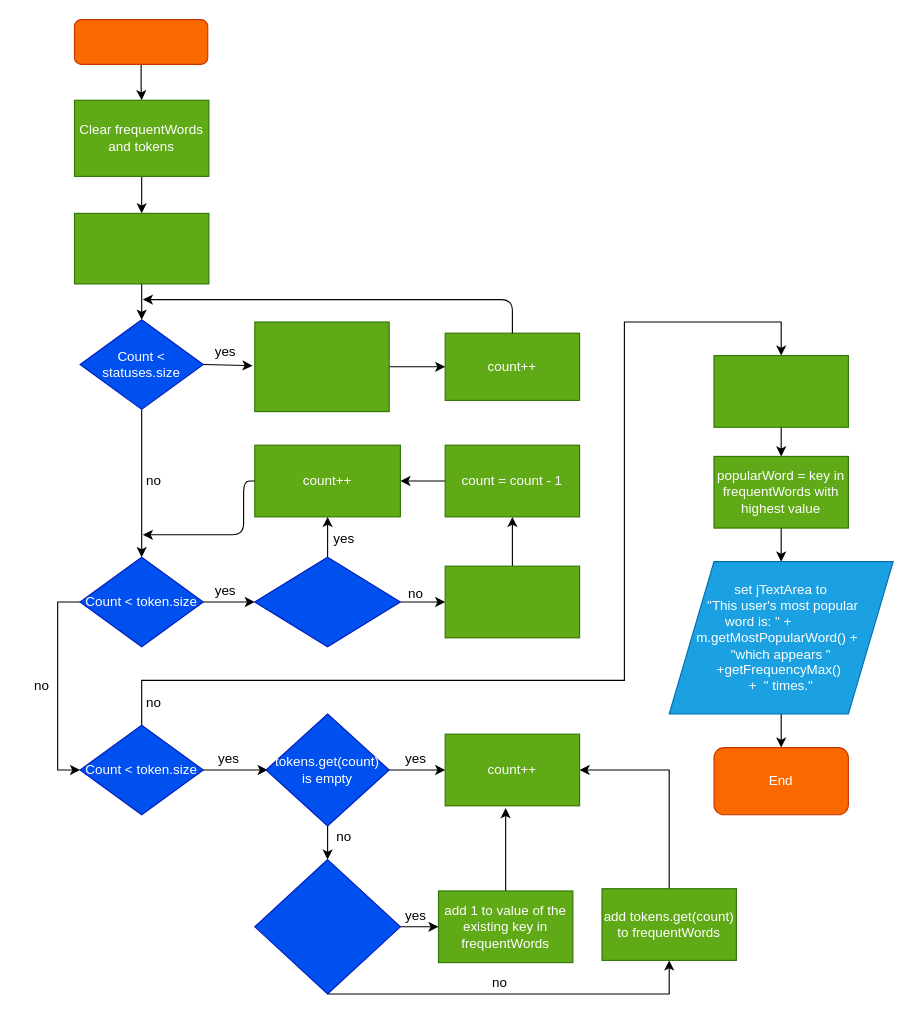
Image size: 913x1023. Some labels were removed from this diagram. Each missing label, with the box of its shape:
fetchTweets: get a list of statuses from an inputted user on twitter: (73, 212, 209, 284)
frequencyMax = highest value in frequentWords: (713, 354, 848, 427)
frequentWords contains the key tokens.get(count): (254, 858, 400, 994)
remove tokens.get(count): (444, 565, 580, 638)
split statuses.get(count) into individual words and add them all to tokens: (254, 321, 389, 412)
Start: (73, 18, 208, 64)
tokens.get(count) is a hashtag: (254, 556, 400, 647)
